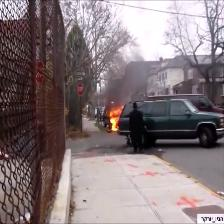fire: (100, 96, 144, 136)
